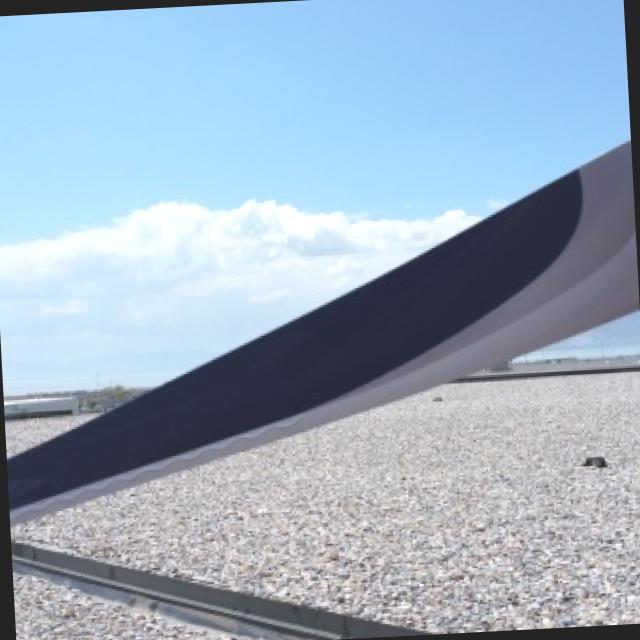healthy: (7, 141, 638, 522)
